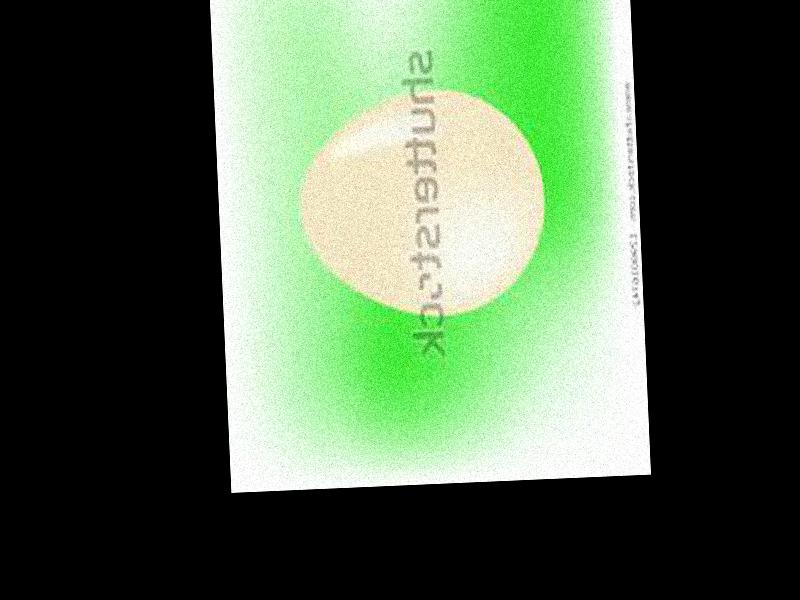Eggs: (295, 86, 548, 322)
